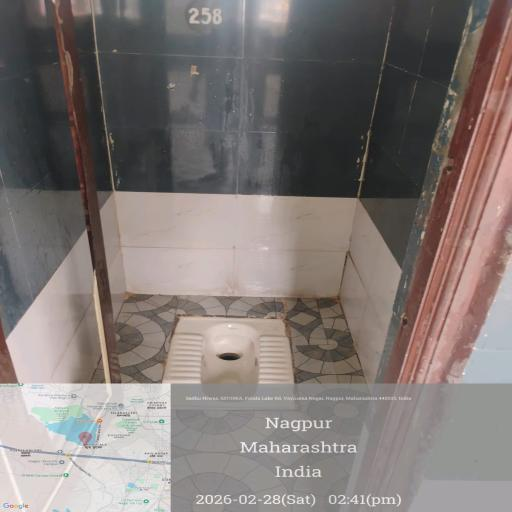clean_floor: (59, 11, 454, 219), (101, 283, 455, 512)
clean_indian: (155, 311, 303, 406)
